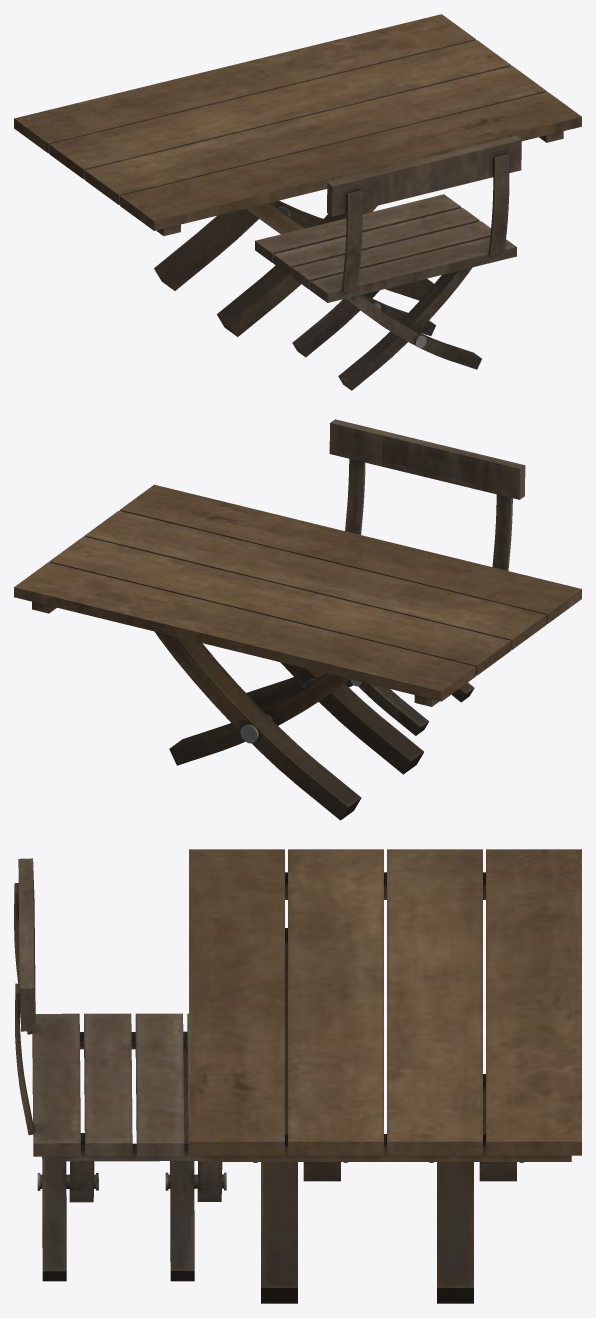
File: SM_table_group_04.glb
3 renders of one model, top to bottom at view 1: azimuth 30°, elevation 25°; view 2: azimuth 150°, elevation 25°; view 3: azimuth 270°, elevation 25°, orthographic. The views are drawn at different scales.
Visible parts, largest first — view 1: SM_table_group_04; view 2: SM_table_group_04; view 3: SM_table_group_04.
Boxes of the visible parts, box(x1,y1,x2,y2) form: SM_table_group_04: box(14, 14, 581, 390); SM_table_group_04: box(14, 419, 581, 820); SM_table_group_04: box(14, 849, 581, 1303).
Size of the model in its own units: 1.84 by 0.9312 by 1.51.
Materials: 1 (1 with a texture image).
